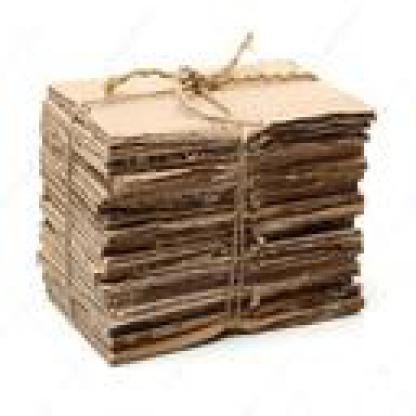CARDBOARD: (35, 72, 370, 361), (39, 55, 367, 127)
